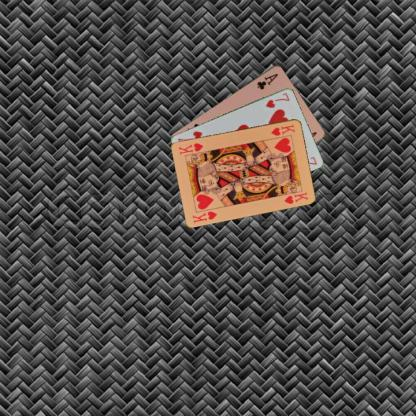7h: (263, 90, 291, 109)
Ac: (254, 70, 280, 90)
Kh: (190, 208, 218, 224), (269, 122, 296, 137)
